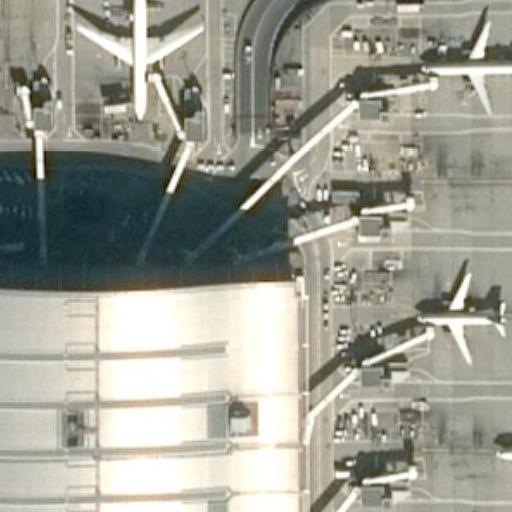Aircraft: (74, 0, 204, 118), (412, 269, 507, 364), (420, 17, 512, 114), (491, 403, 512, 495)
